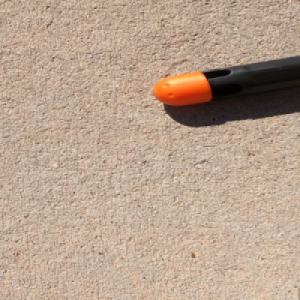PlasticPart: (151, 53, 300, 106)
